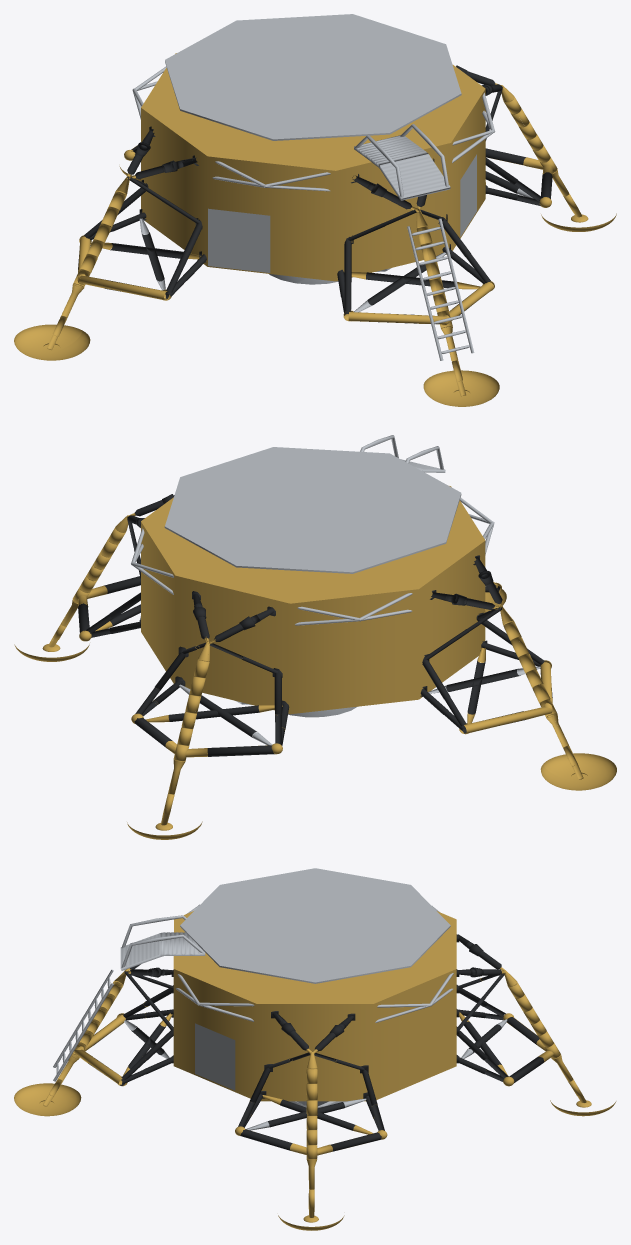
Rendered from apollo_lm_descent.glb.
3 renders of one model, top to bottom at view 1: azimuth 30°, elevation 25°; view 2: azimuth 150°, elevation 25°; view 3: azimuth 270°, elevation 25°, orthographic. The views are drawn at different scales.
Parts seen in each view (by area): view 1: pCylinder1, flat_separation_deck, group31 19, group31 15 (×2), pPlane1, pCube3, group31 16 (×2), polySurfa1, group31 g6, group31 10, pCylinder3, group31 18 (+8 smaller); view 2: pCylinder1, flat_separation_deck, group31 15 (×2), group31 16 (×2), group31 19, group31 g6 (×2), group31 g7 (×2), group31 14, group31 18, group31 g8, pCylinder3, group31 17 (+3 smaller); view 3: pCylinder1, flat_separation_deck, group31 15 (×2), group31 16 (×2), group31 19, pPlane2, pCube3, group31 g7 (×2), group31 g6 (×2), group31 14, group31 g8, group31 10 (+7 smaller).
Part boxes in pixels (bbox=[...]): pCylinder1: bbox=[141, 53, 485, 281]; flat_separation_deck: bbox=[165, 14, 461, 140]; group31 19: bbox=[14, 166, 616, 406]; group31 15 (×2): bbox=[47, 85, 581, 396]; pPlane1: bbox=[208, 208, 270, 272]; pCube3: bbox=[354, 135, 450, 200]; group31 16 (×2): bbox=[47, 85, 580, 395]; polySurfa1: bbox=[407, 218, 474, 360]; group31 g6: bbox=[78, 145, 552, 324]; group31 10: bbox=[131, 148, 542, 311]; pCylinder3: bbox=[142, 171, 518, 305]; group31 18: bbox=[127, 84, 502, 210]; pCylinder1: bbox=[141, 486, 485, 714]; flat_separation_deck: bbox=[164, 447, 461, 573]; group31 15 (×2): bbox=[48, 515, 582, 825]; group31 16 (×2): bbox=[48, 515, 583, 825]; group31 19: bbox=[14, 589, 616, 839]; group31 g6 (×2): bbox=[86, 576, 552, 757]; group31 g7 (×2): bbox=[78, 595, 552, 753]; group31 14: bbox=[85, 592, 466, 726]; group31 18: bbox=[134, 494, 502, 641]; group31 g8: bbox=[110, 604, 485, 721]; pCylinder3: bbox=[200, 669, 520, 737]; group31 17: bbox=[127, 515, 502, 639]; pCylinder1: bbox=[173, 911, 456, 1101]; flat_separation_deck: bbox=[180, 868, 450, 983]; group31 15 (×2): bbox=[43, 970, 585, 1217]; group31 16 (×2): bbox=[43, 973, 586, 1217]; group31 19: bbox=[14, 1083, 616, 1230]; pPlane2: bbox=[195, 1023, 235, 1090]; pCube3: bbox=[120, 932, 205, 970]; group31 g7 (×2): bbox=[74, 1048, 553, 1155]; group31 g6 (×2): bbox=[74, 1015, 546, 1154]; group31 14: bbox=[121, 1028, 508, 1130]; group31 g8: bbox=[128, 1021, 501, 1130]; group31 10: bbox=[123, 986, 505, 1126].
Bounding box in the file's own units: 9.45 × 3.23 × 9.45.
